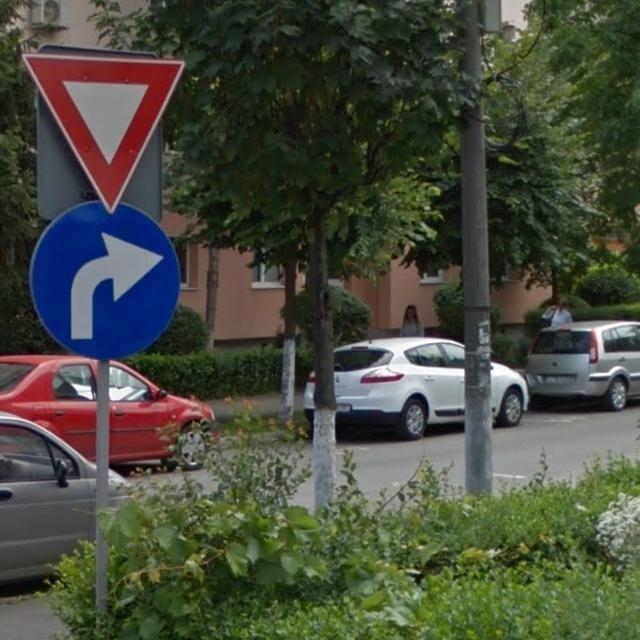prio_give_way: (17, 50, 184, 213)
